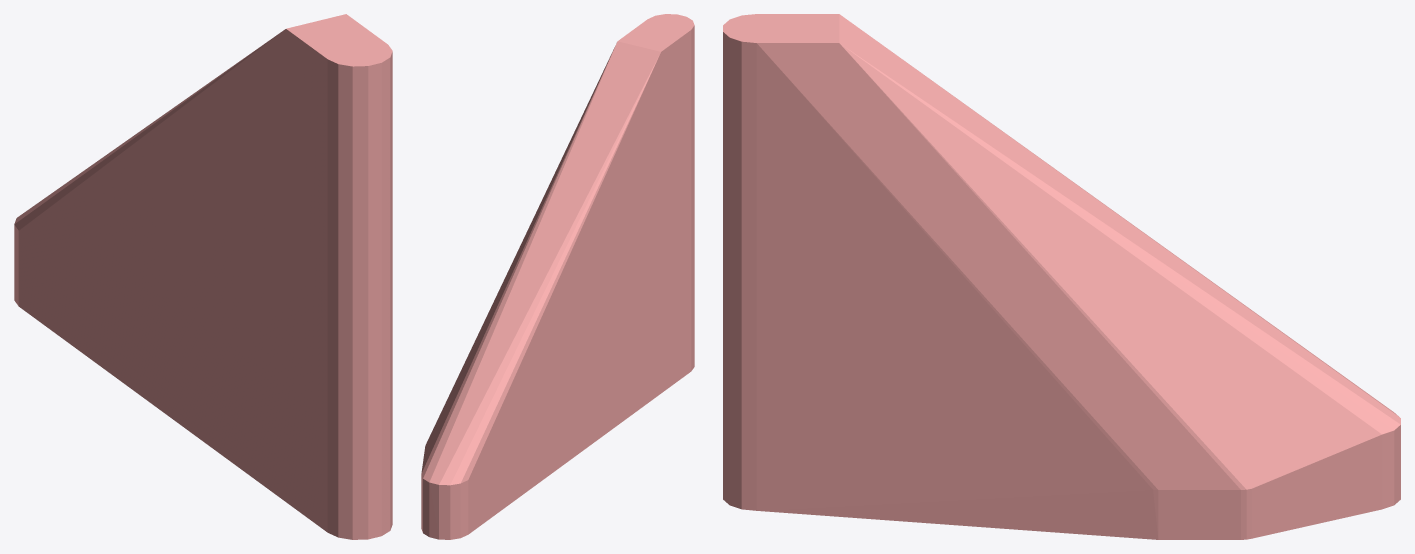
The model's file is rambler_Brazo4dyn_coll_1.dae.
3 views of the same model, side by side, from view 1: azimuth 30°, elevation 25°; view 2: azimuth 150°, elevation 25°; view 3: azimuth 270°, elevation 25° (orthographic). The views are drawn at different scales.
Parts seen in each view (by area): view 1: Node_0x7fe100285c80; view 2: Node_0x7fe100285c80; view 3: Node_0x7fe100285c80.
Boxes of the visible parts, x1,y1,x2,y2 form: Node_0x7fe100285c80: (14, 14, 392, 539); Node_0x7fe100285c80: (421, 14, 694, 539); Node_0x7fe100285c80: (723, 14, 1400, 539).
Size of the model in its own units: 0.1 by 0.3747 by 0.492.
